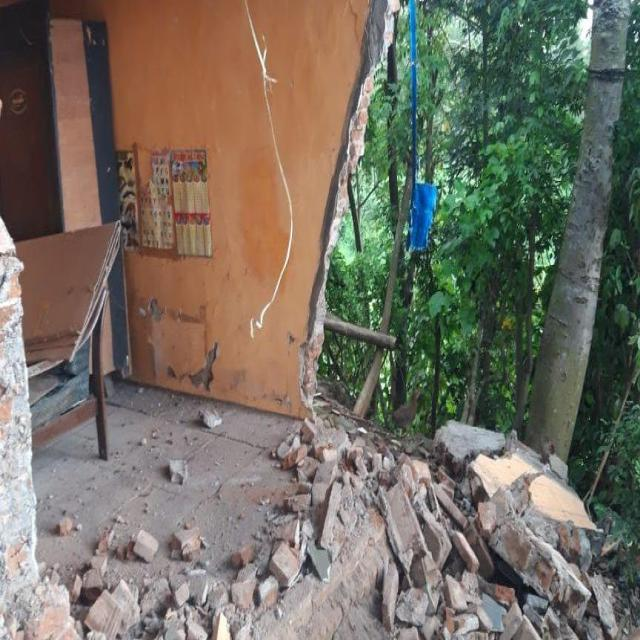damage: (295, 407, 629, 640), (48, 410, 288, 640), (304, 0, 413, 416)
